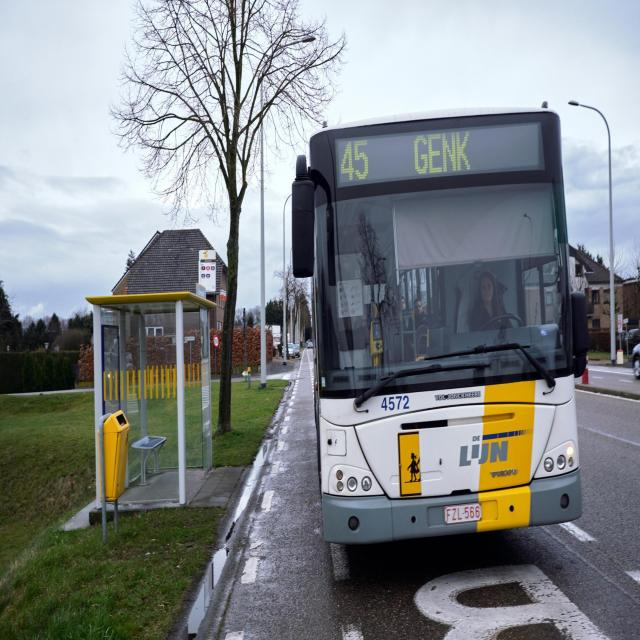bus-number: (336, 138, 374, 186)
